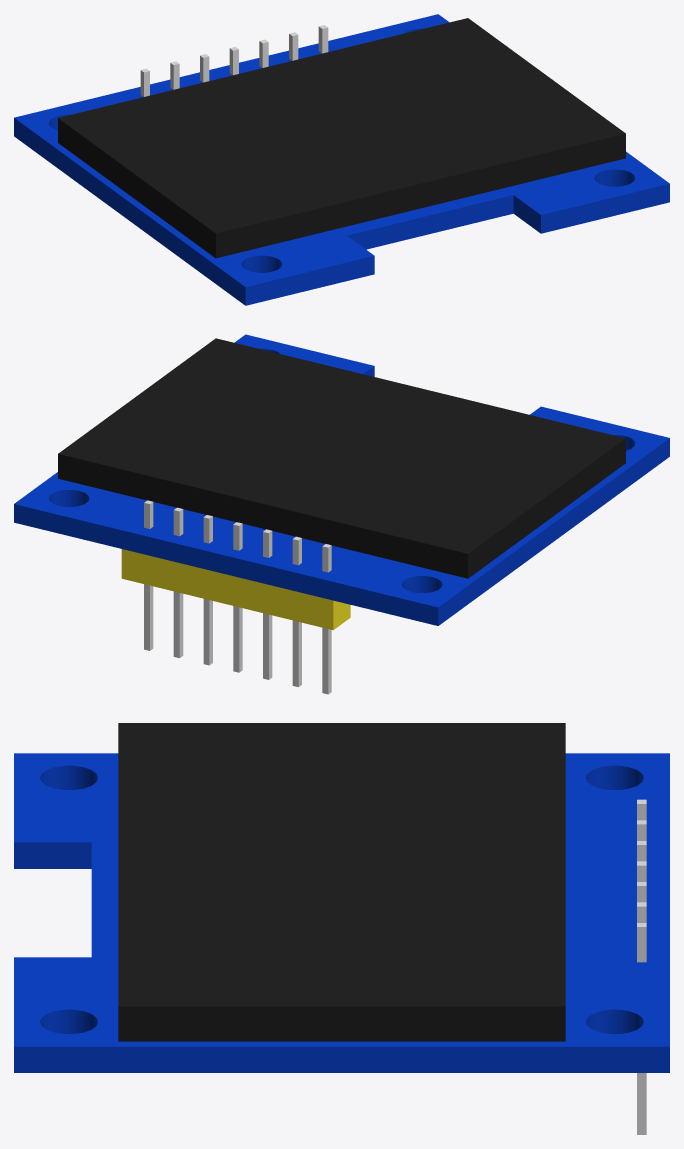
The model's file is OLED 1.3 SPI.obj.
3 views of the same model, one above another, from view 1: azimuth 30°, elevation 25°; view 2: azimuth 150°, elevation 25°; view 3: azimuth 270°, elevation 25° (orthographic). The views are drawn at different scales.
Parts seen in each view (by area): view 1: Solid1, Solid10; view 2: Solid1, Solid10, Solid2, Solid8, Solid3, Solid4, Solid6, Solid9, Solid5, Solid7; view 3: Solid1, Solid10, Solid9.
Boxes of the visible parts, x1=… form: Solid1: x1=58, y1=18, x2=625, y2=258; Solid10: x1=14, y1=14, x2=669, y2=305; Solid1: x1=58, y1=338, x2=625, y2=578; Solid10: x1=14, y1=334, x2=669, y2=625; Solid2: x1=121, y1=549, x2=350, y2=630; Solid8: x1=173, y1=507, x2=183, y2=658; Solid3: x1=322, y1=544, x2=331, y2=694; Solid4: x1=292, y1=536, x2=301, y2=687; Solid6: x1=233, y1=522, x2=242, y2=672; Solid9: x1=144, y1=500, x2=153, y2=650; Solid5: x1=263, y1=529, x2=272, y2=679; Solid7: x1=203, y1=515, x2=212, y2=665; Solid1: x1=118, y1=723, x2=565, y2=1041; Solid10: x1=14, y1=753, x2=669, y2=1072; Solid9: x1=637, y1=923, x2=646, y2=1134.
Size of the model in its own units: 35.7 by 11.8 by 33.75.
